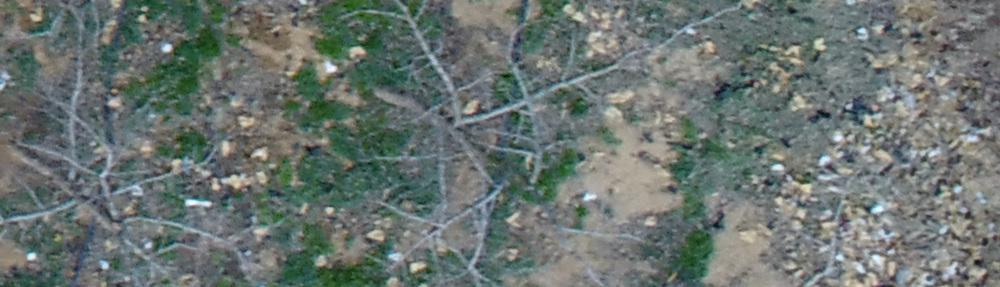apple: (10, 19, 279, 277)
